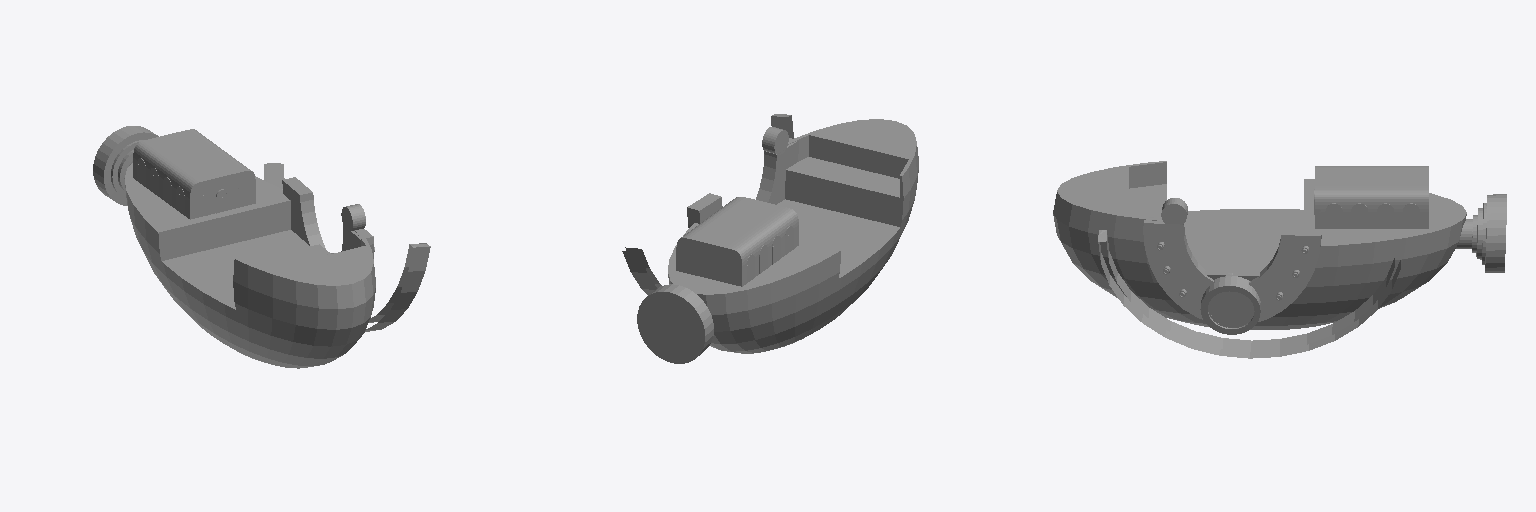
File: bateau.obj
3 views of the same model, side by side, from view 1: azimuth 30°, elevation 25°; view 2: azimuth 150°, elevation 25°; view 3: azimuth 270°, elevation 25° (orthographic).
Visible parts, largest first — view 1: Sphere, SurfPatch_CUSurfPatch, Circle_Circle.001, Cylinder.010_Cylinder.000, Cylinder_Cylinder.004, Cylinder.001_Cylinder.008; view 2: Sphere, SurfPatch_CUSurfPatch, Circle_Circle.001, Cylinder_Cylinder.004, Cylinder.010_Cylinder.000, Cylinder.001_Cylinder.008; view 3: Sphere, Cylinder_Cylinder.004, Cylinder.010_Cylinder.000, SurfPatch_CUSurfPatch, Cylinder.002_Cylinder.009, Circle_Circle.001, Cylinder.001_Cylinder.008.
Part boxes in pixels (x1,y1,x2,y2): Sphere: (124, 163, 375, 368); SurfPatch_CUSurfPatch: (133, 129, 255, 219); Circle_Circle.001: (93, 126, 158, 205); Cylinder.010_Cylinder.000: (264, 163, 430, 331); Cylinder_Cylinder.004: (282, 177, 373, 258); Cylinder.001_Cylinder.008: (341, 204, 365, 231); Sphere: (668, 119, 918, 353); SurfPatch_CUSurfPatch: (676, 197, 798, 286); Circle_Circle.001: (637, 284, 713, 363); Cylinder_Cylinder.004: (687, 138, 798, 227); Cylinder.010_Cylinder.000: (622, 114, 793, 294); Cylinder.001_Cylinder.008: (762, 127, 788, 154); Sphere: (1053, 161, 1466, 329); Cylinder_Cylinder.004: (1143, 217, 1321, 321); Cylinder.010_Cylinder.000: (1098, 230, 1400, 358); SurfPatch_CUSurfPatch: (1315, 166, 1428, 228); Cylinder.002_Cylinder.009: (1200, 273, 1260, 334); Circle_Circle.001: (1456, 194, 1506, 272); Cylinder.001_Cylinder.008: (1161, 198, 1187, 224).
Bounding box in the file's own units: 2.86 × 2.47 × 6.58.